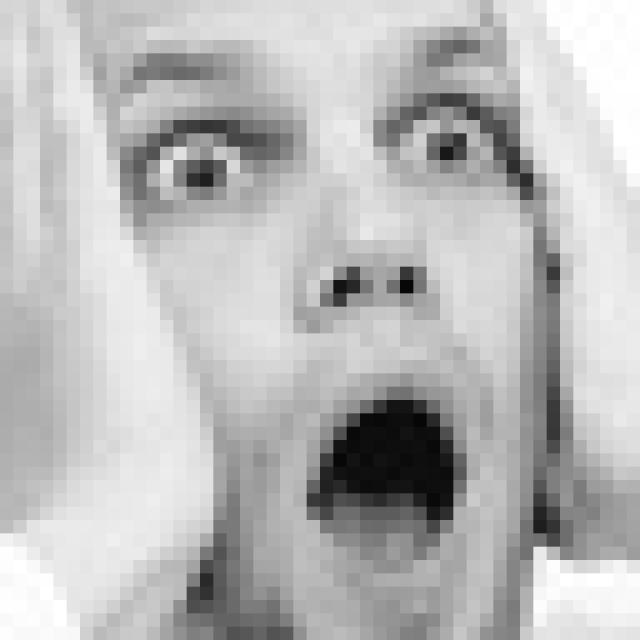surprise: (105, 40, 516, 610)
